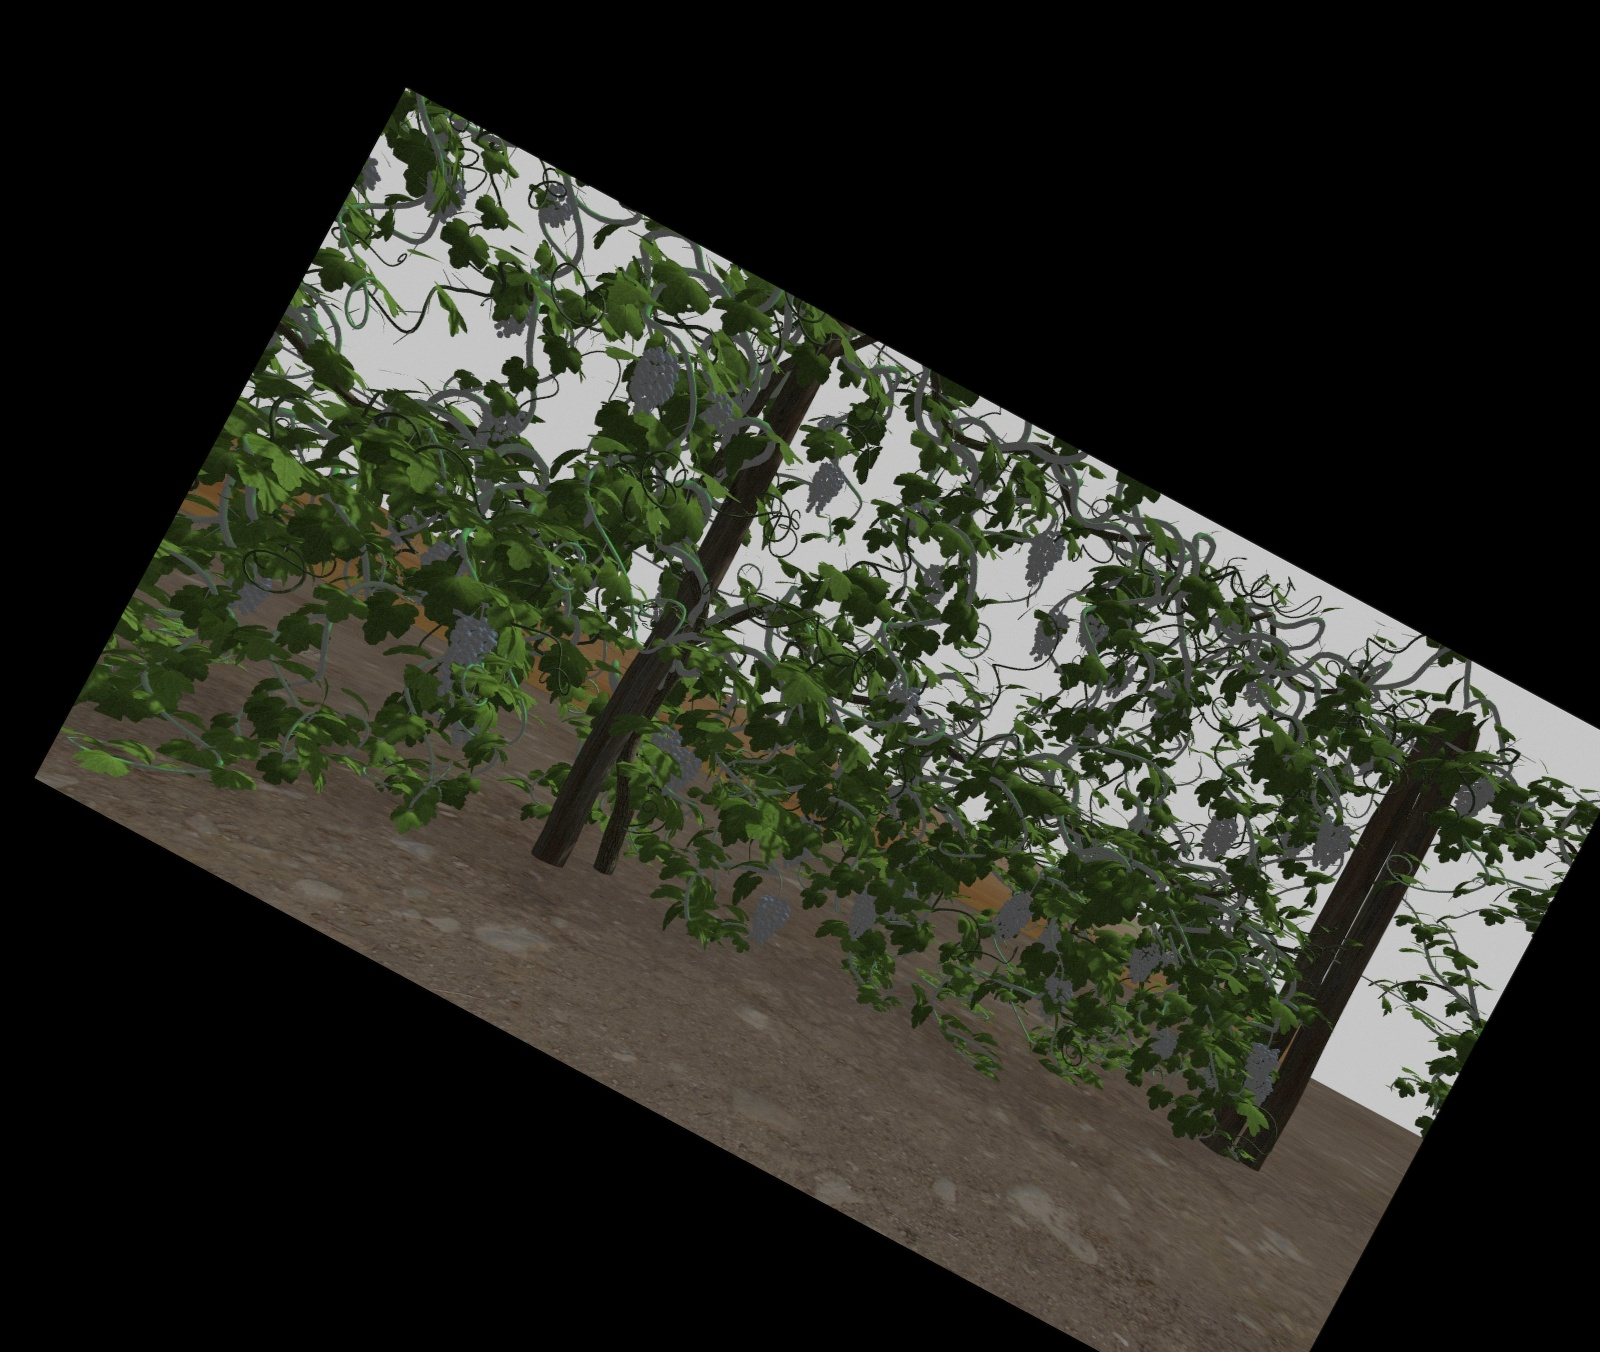grape: (630, 347, 675, 409), (447, 617, 488, 680), (1026, 532, 1057, 587), (752, 895, 785, 943), (809, 461, 838, 514), (998, 891, 1029, 939), (1314, 822, 1347, 868), (1203, 814, 1234, 860), (1034, 612, 1062, 661), (1458, 775, 1491, 817), (848, 892, 874, 939), (239, 571, 267, 614), (1246, 1044, 1274, 1085), (539, 188, 571, 224), (1131, 942, 1157, 983), (888, 684, 917, 722), (921, 563, 950, 601), (671, 752, 695, 795), (701, 392, 730, 425), (1077, 617, 1105, 646), (498, 406, 519, 444), (475, 406, 498, 441), (1043, 976, 1072, 1002), (652, 727, 680, 752), (1152, 1027, 1176, 1056), (1243, 1077, 1267, 1103)
